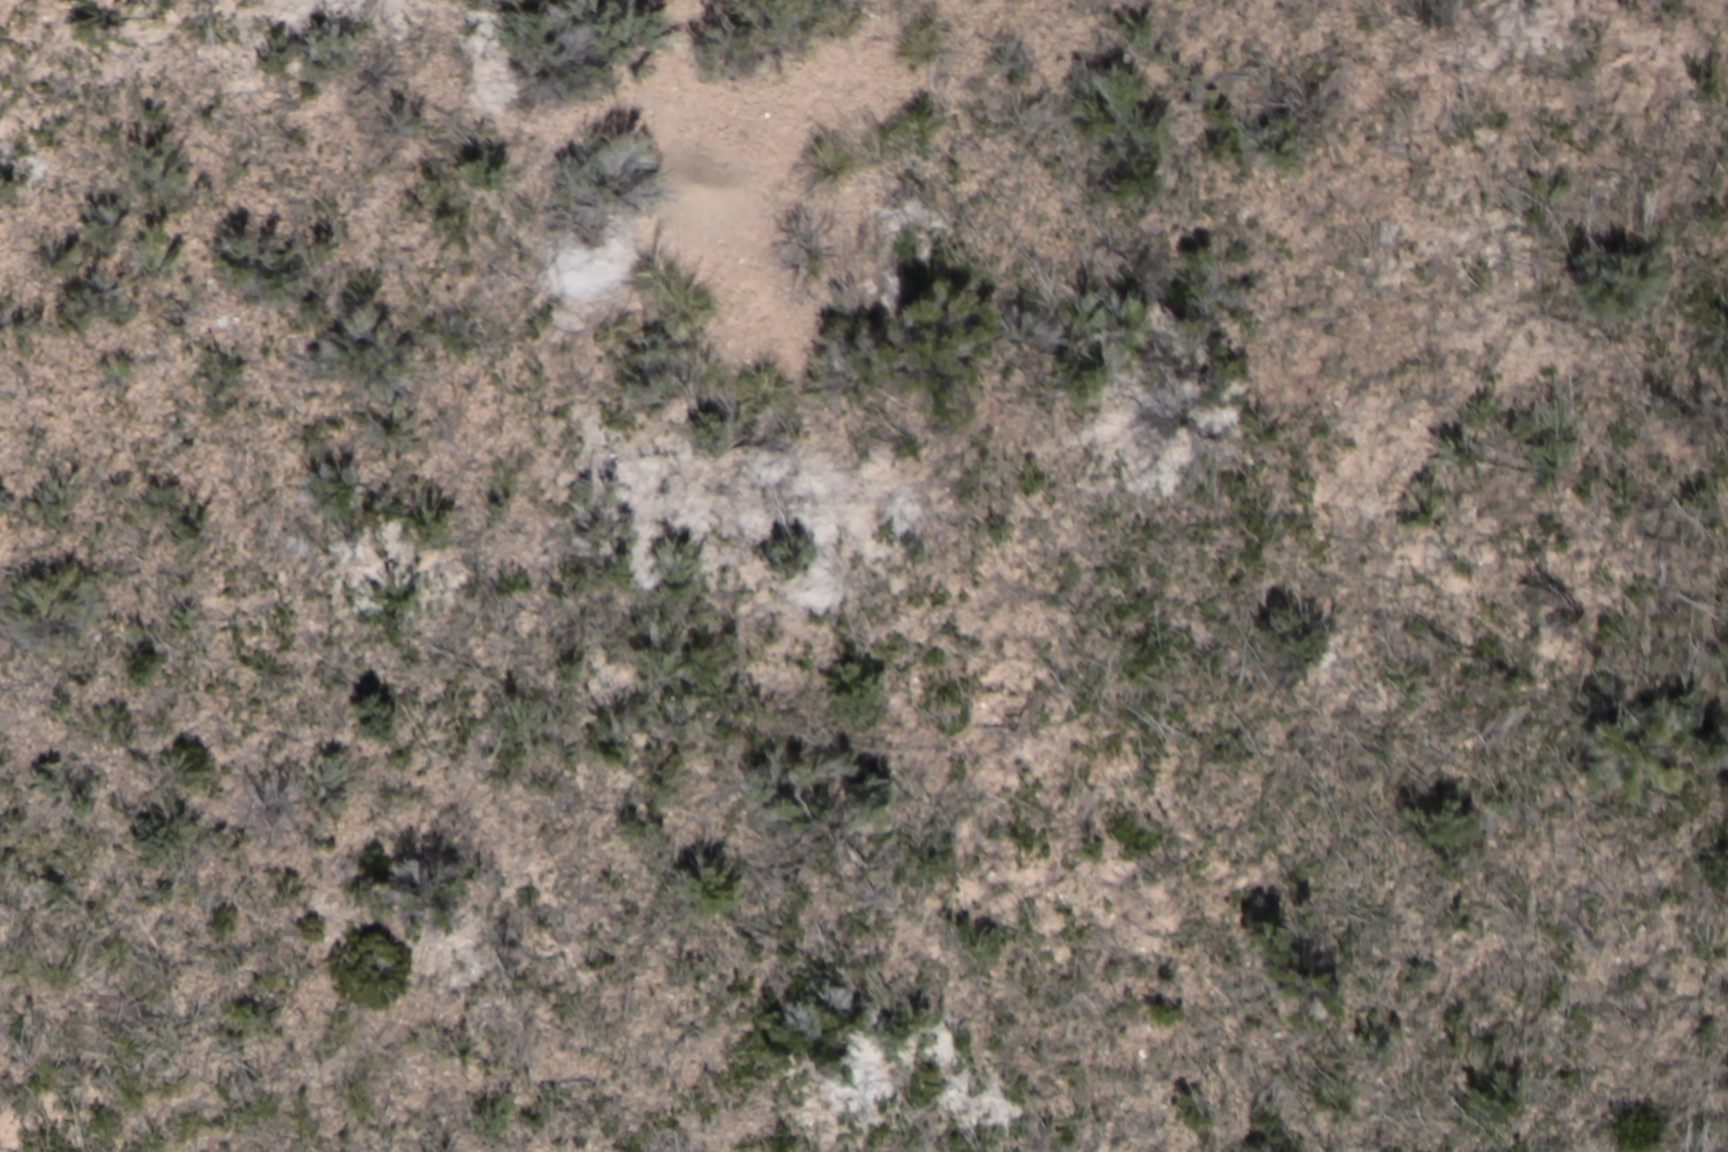burrow: (636, 136, 752, 253)
